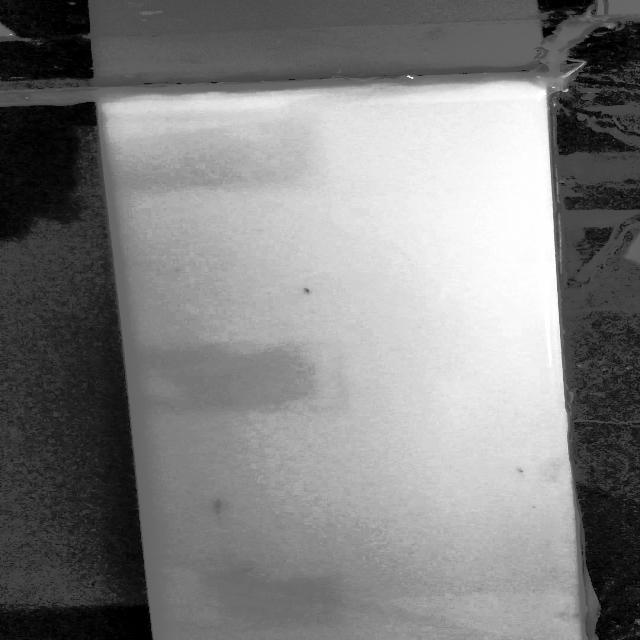shrimp: (509, 466, 533, 482), (207, 498, 228, 512), (234, 566, 261, 576), (298, 287, 320, 297)
